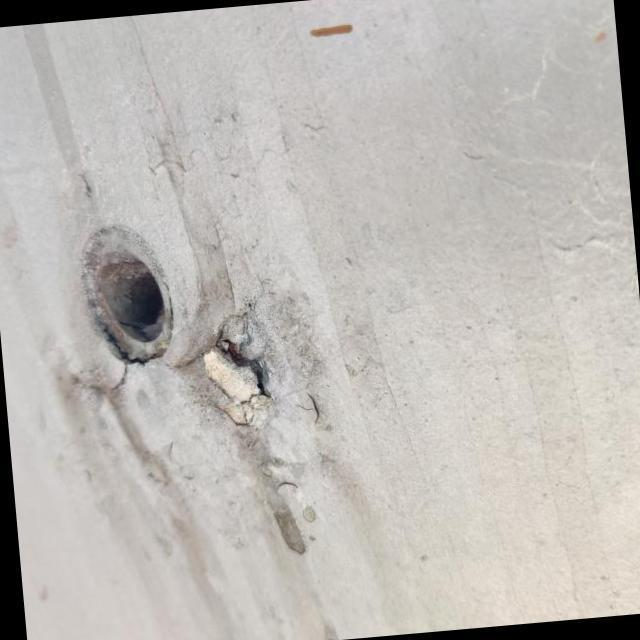Rupture: (162, 306, 294, 453)
